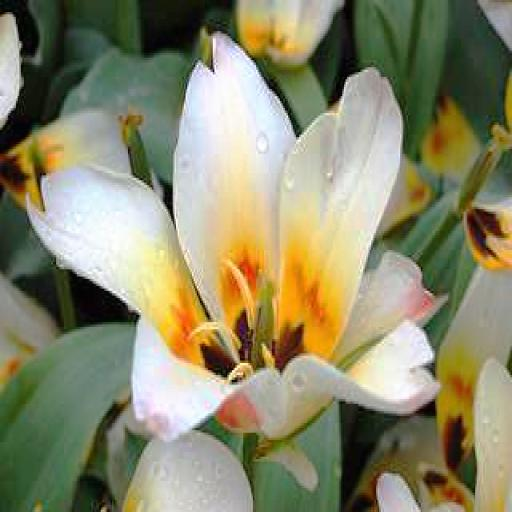tulip: (26, 29, 442, 447)
